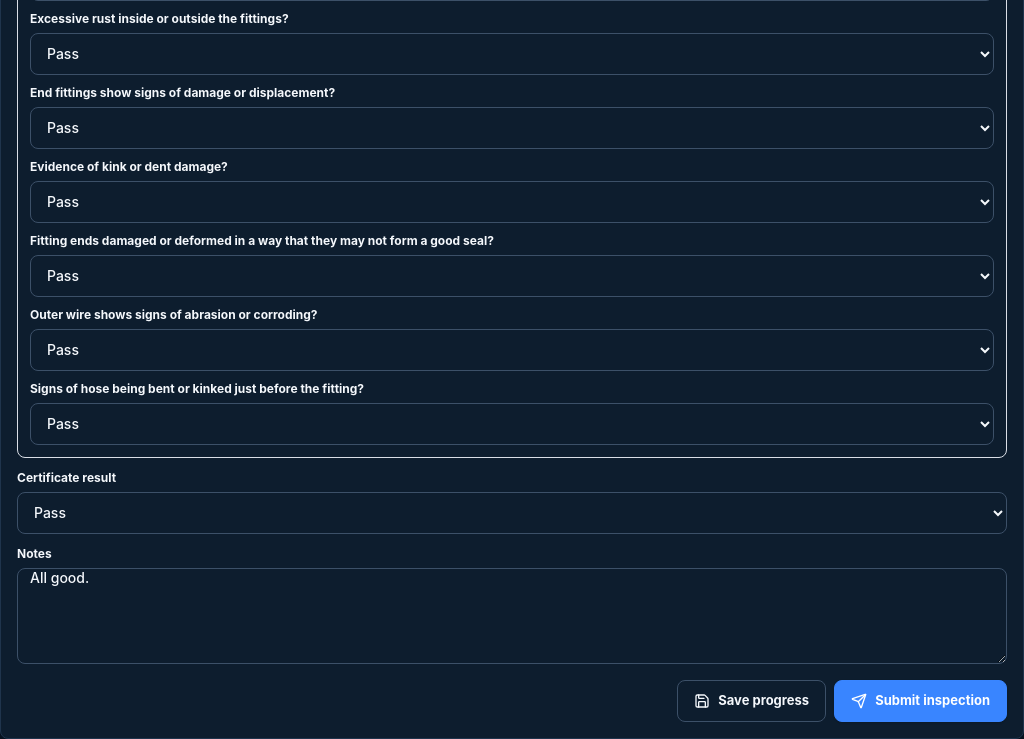
Test: saved inspection (staff) › shows a submit failure from the server
The width and height of the screenshot is (1024, 739).
(page scrolled)
Click the button "Submit inspection": (921, 701) x1=834 y1=680 x2=1007 y2=722
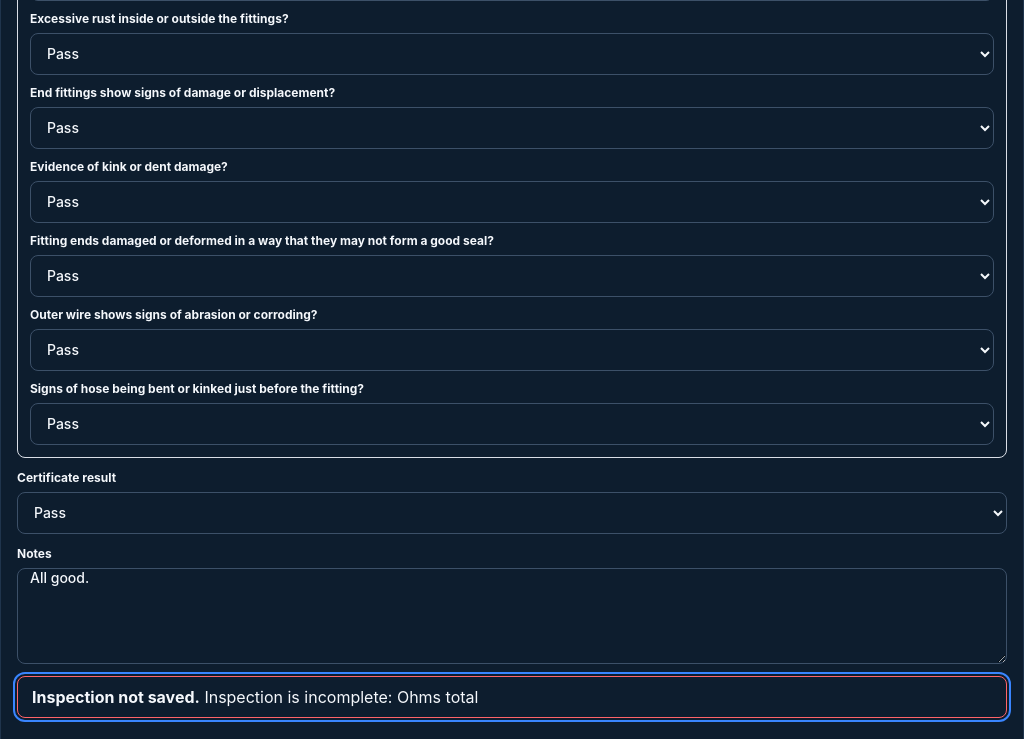
Result: the message shows "Inspection is incomplete" at x1=204 y1=687 x2=478 y2=707
